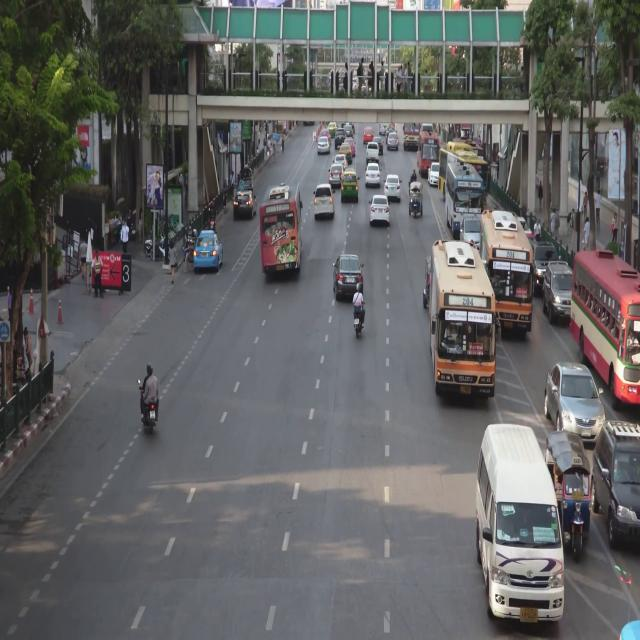bus: (571, 253, 640, 408), (430, 242, 495, 403), (483, 211, 532, 334), (261, 186, 300, 275), (440, 147, 486, 209), (448, 161, 481, 236), (419, 133, 440, 176), (453, 138, 485, 159), (405, 121, 420, 148)
car: (479, 427, 565, 619), (545, 432, 591, 557), (593, 423, 640, 544), (547, 363, 605, 441), (545, 260, 573, 323), (533, 240, 561, 290), (334, 255, 363, 298), (315, 182, 335, 217), (370, 194, 391, 223), (235, 189, 256, 218), (462, 218, 479, 246), (385, 174, 401, 199), (366, 162, 380, 187), (239, 167, 253, 187), (429, 162, 440, 187), (330, 165, 343, 184), (366, 142, 379, 160), (334, 153, 347, 168), (318, 138, 330, 152), (388, 136, 399, 150), (336, 130, 345, 147), (344, 124, 354, 137), (373, 138, 383, 151), (320, 130, 330, 139), (379, 124, 388, 134), (387, 130, 395, 136)
pedestrian: (93, 249, 103, 301), (22, 327, 33, 369), (169, 242, 176, 286), (80, 237, 86, 279), (611, 212, 619, 243), (596, 190, 601, 233), (122, 219, 128, 252), (584, 217, 590, 249), (570, 207, 575, 245), (583, 190, 589, 220), (538, 178, 543, 211), (534, 219, 541, 241), (551, 208, 556, 236), (223, 179, 227, 208), (139, 206, 142, 240), (178, 172, 184, 188), (231, 171, 234, 194), (273, 142, 276, 162), (282, 135, 284, 153), (268, 136, 270, 152), (264, 136, 266, 151), (256, 146, 259, 153)
taxi: (193, 232, 223, 269), (342, 170, 359, 200), (339, 144, 351, 161), (363, 128, 374, 144), (345, 138, 355, 154), (327, 122, 337, 135)
